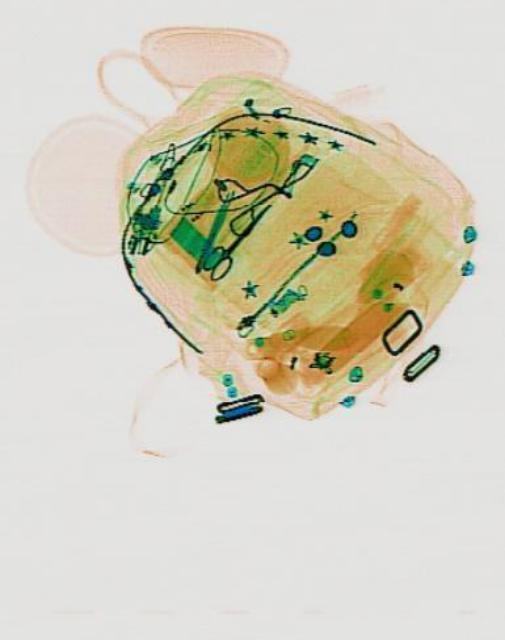Scissors: (195, 193, 276, 283)
